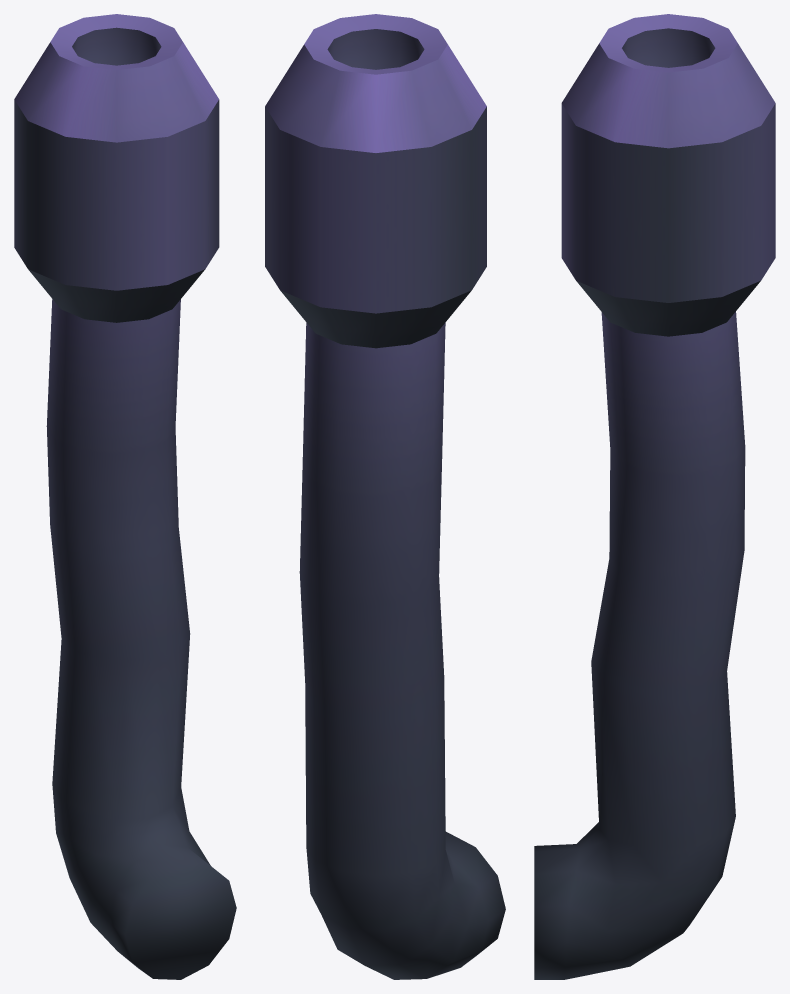
File: undead_chimney.fbx
3 views of the same model, side by side, from view 1: azimuth 30°, elevation 25°; view 2: azimuth 150°, elevation 25°; view 3: azimuth 270°, elevation 25° (orthographic). The views are drawn at different scales.
Parts seen in each view (by area): view 1: undead_chimney; view 2: undead_chimney; view 3: undead_chimney.
Boxes of the visible parts, bbox=[...] form: undead_chimney: bbox=[14, 14, 236, 979]; undead_chimney: bbox=[265, 14, 505, 979]; undead_chimney: bbox=[534, 14, 775, 979].
Size of the model in its own units: 1.91 by 9.18 by 2.16.
